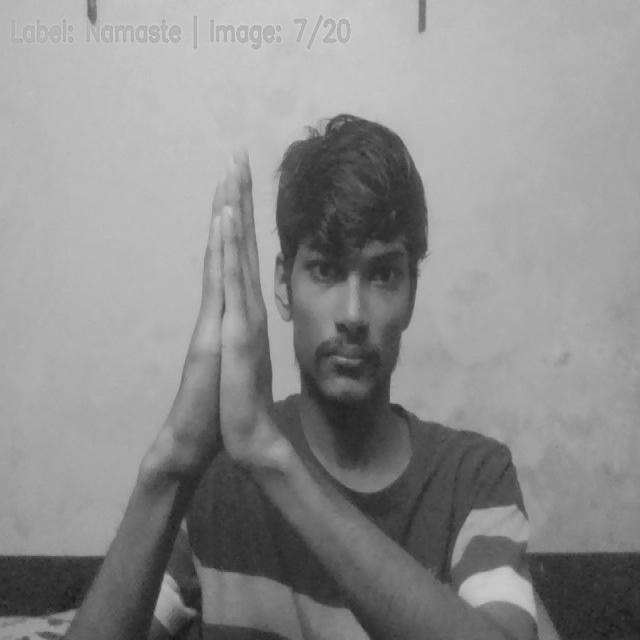Namaste: (172, 141, 274, 475)
